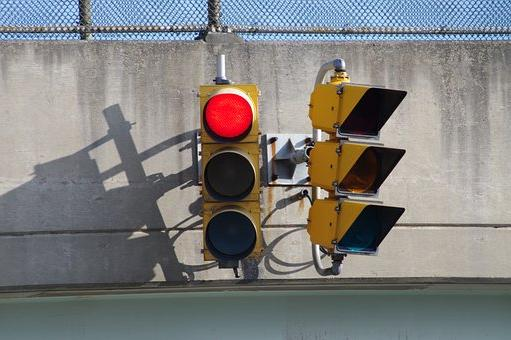trafic: (198, 83, 262, 258), (339, 82, 403, 257)
